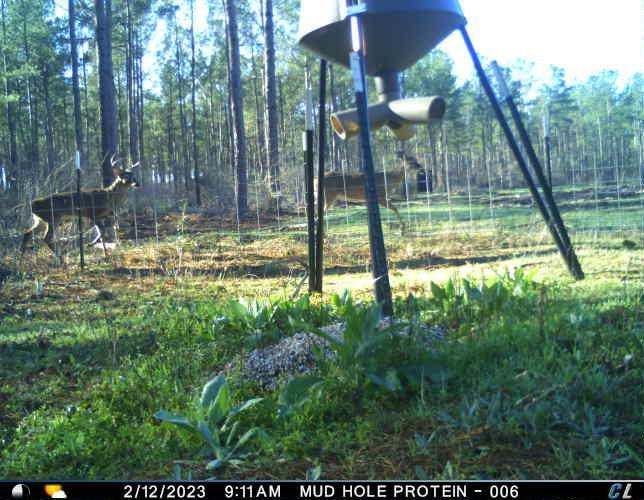Deer: (21, 155, 145, 267), (316, 149, 427, 241)
